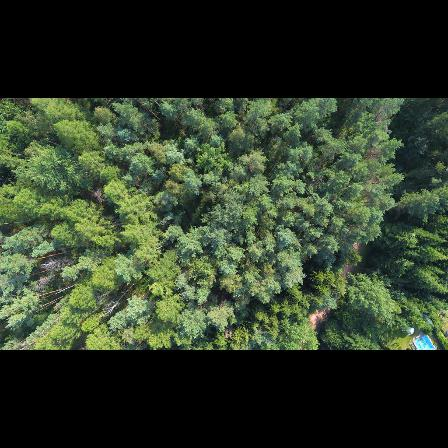Dead: (36, 254, 74, 272), (99, 296, 123, 318)
